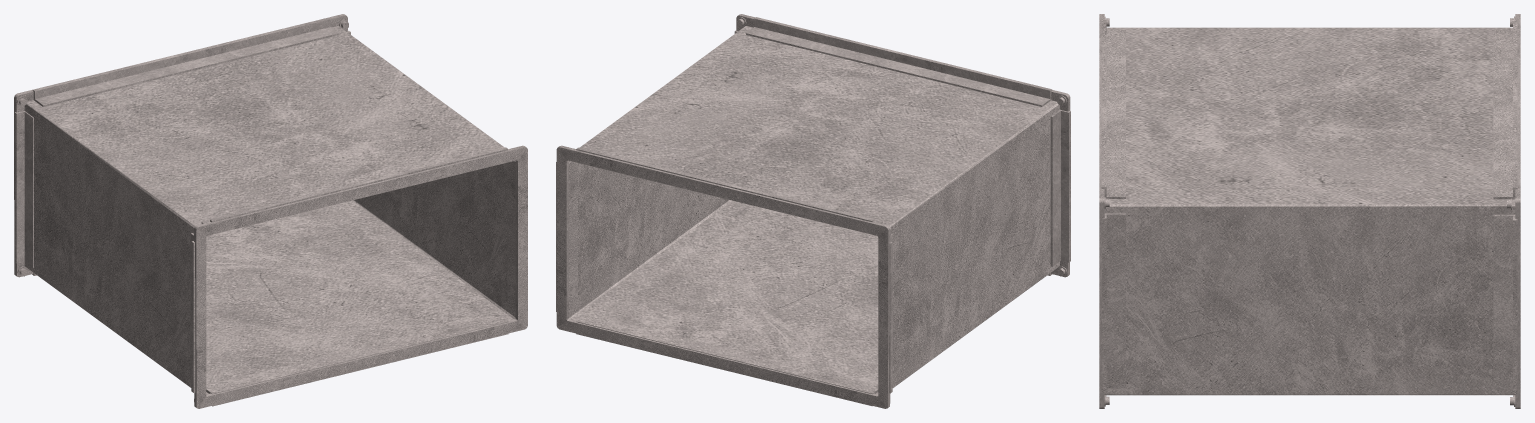
Rendered from SM_Square_Ducting_01k.glb.
3 views of the same model, side by side, from view 1: azimuth 30°, elevation 25°; view 2: azimuth 150°, elevation 25°; view 3: azimuth 270°, elevation 25° (orthographic). The views are drawn at different scales.
Visible parts, largest first — view 1: SM_Square_Ducting_01k; view 2: SM_Square_Ducting_01k; view 3: SM_Square_Ducting_01k.
Boxes of the visible parts, bbox=[...] form: SM_Square_Ducting_01k: bbox=[14, 14, 527, 408]; SM_Square_Ducting_01k: bbox=[556, 14, 1070, 408]; SM_Square_Ducting_01k: bbox=[1099, 14, 1520, 408].
Bounding box in the file's own units: 1.06 × 0.5617 × 1.
Materials: 1 (1 with a texture image).
